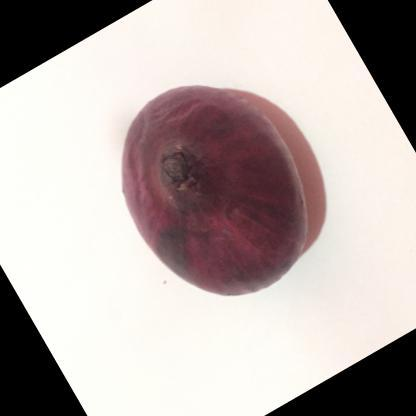onion: (61, 12, 370, 350)
